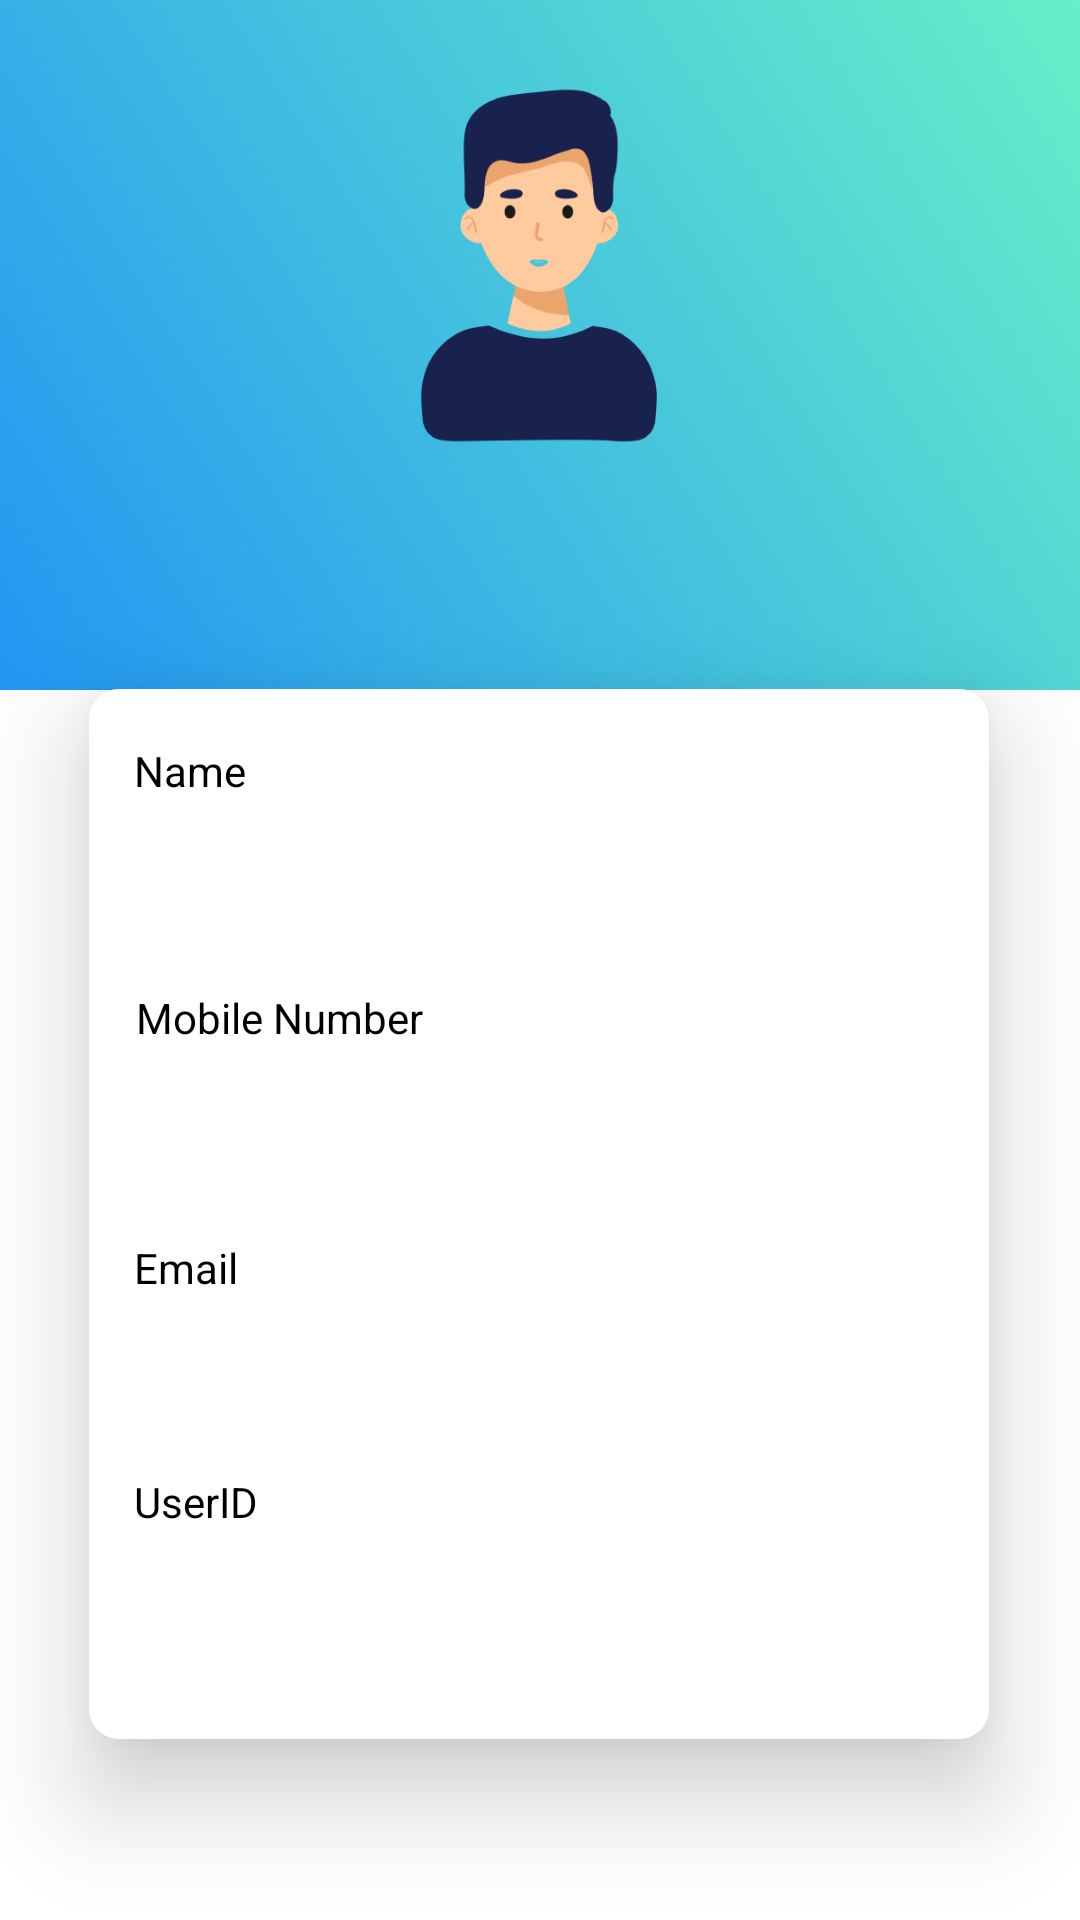

Point at icon controls on the screen. Image size 1080 x 1920, points as (x=x, y=y).
profile: (x=539, y=265)
